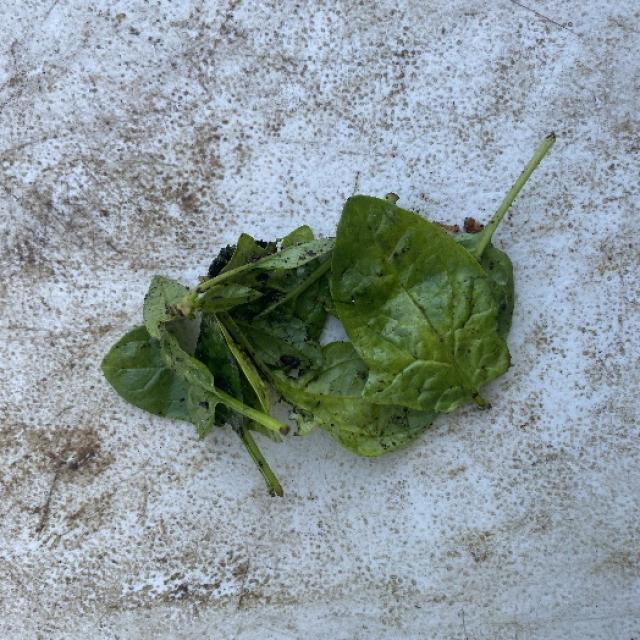organik: (99, 145, 572, 484)
